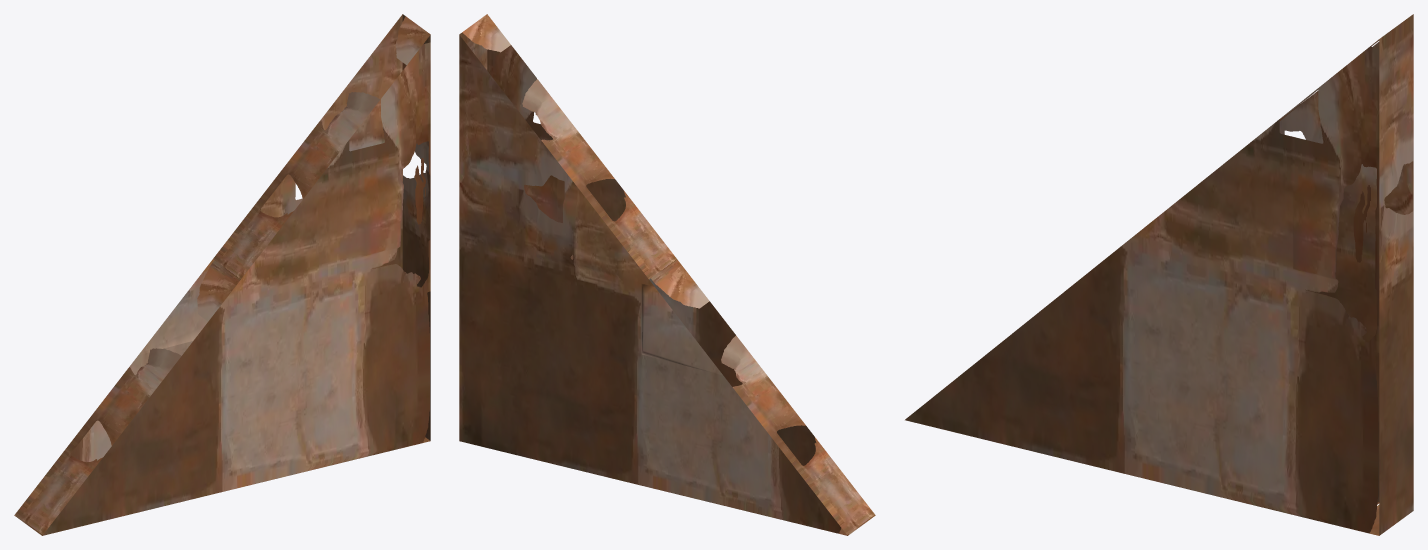
3 renders of one model, left to right at view 1: azimuth 30°, elevation 25°; view 2: azimuth 150°, elevation 25°; view 3: azimuth 330°, elevation 25°, orthographic. The views are drawn at different scales.
Parts seen in each view (by area): view 1: SM_Sandstone_01_LOD0; view 2: SM_Sandstone_01_LOD0; view 3: SM_Sandstone_01_LOD0.
Part boxes in pixels (bbox=[...]): SM_Sandstone_01_LOD0: bbox=[14, 14, 430, 535]; SM_Sandstone_01_LOD0: bbox=[459, 14, 875, 535]; SM_Sandstone_01_LOD0: bbox=[905, 14, 1413, 535].
Size of the model in its own units: 4 by 4 by 0.6304.
